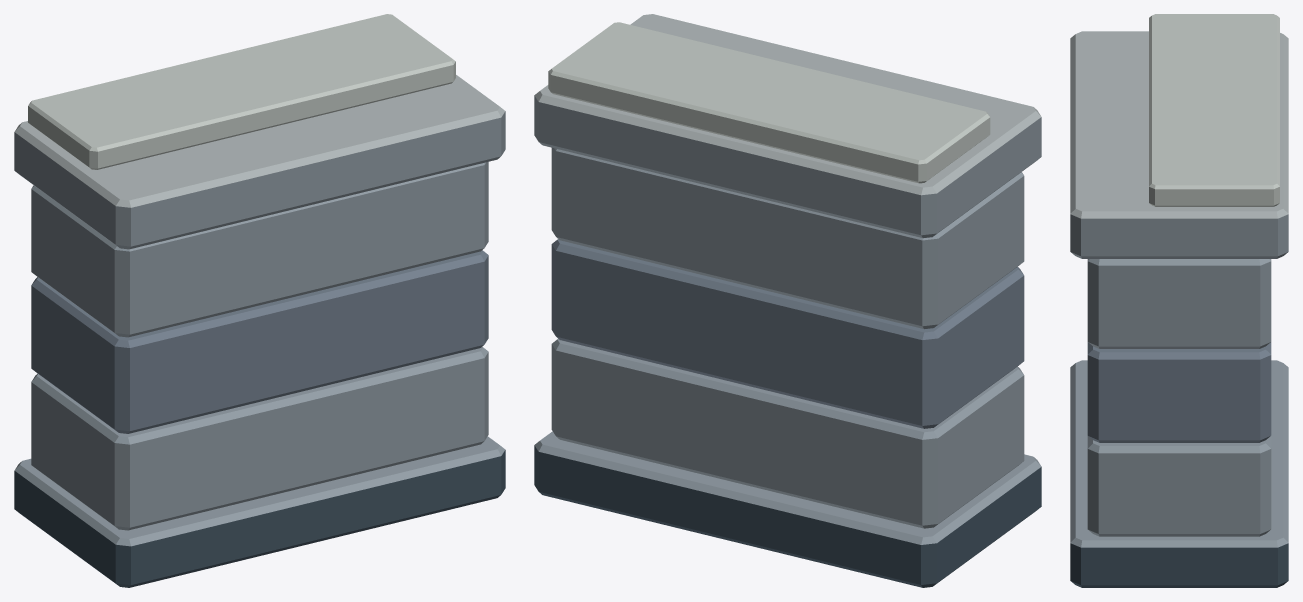
File: wall-short.glb
3 renders of one model, left to right at view 1: azimuth 30°, elevation 25°; view 2: azimuth 150°, elevation 25°; view 3: azimuth 270°, elevation 25°, orthographic. The views are drawn at different scales.
Visible parts, largest first — view 1: wall-short__body; view 2: wall-short__body; view 3: wall-short__body.
Boxes of the visible parts, box(x1,y1,x2,y2) form: wall-short__body: box(14, 14, 505, 587); wall-short__body: box(534, 14, 1041, 587); wall-short__body: box(1070, 14, 1288, 587).
Bounding box in the file's own units: 1 × 1 × 0.5.
